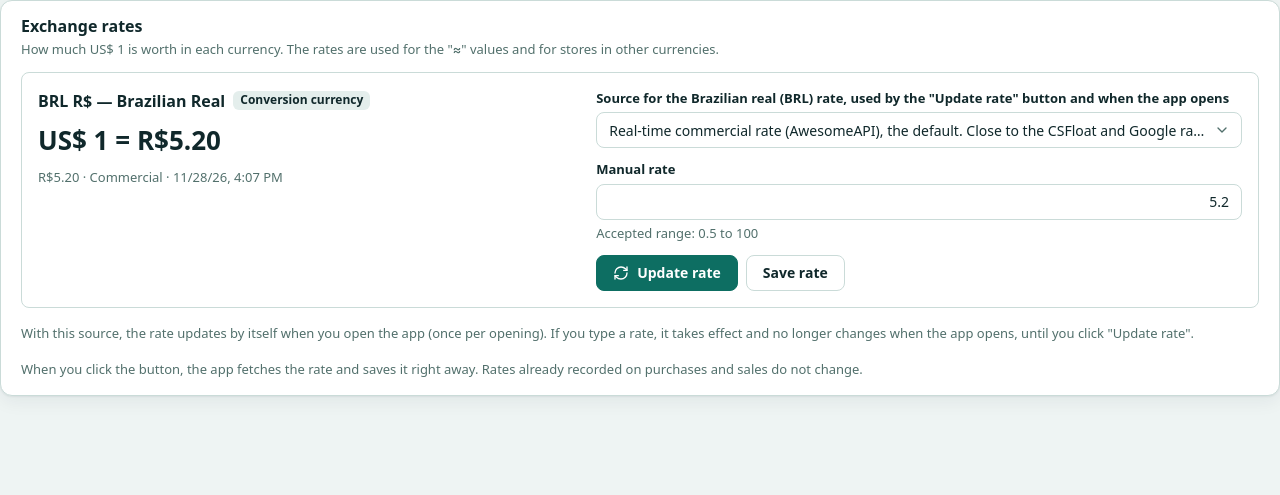
Test case: Cotações › falha ao atualizar: Banner de erro na própria linha
What coordinates should you click on to do the following:
click the button "Update rate"
I would click on:
 (667, 273)
Its box is [596,255,738,291].
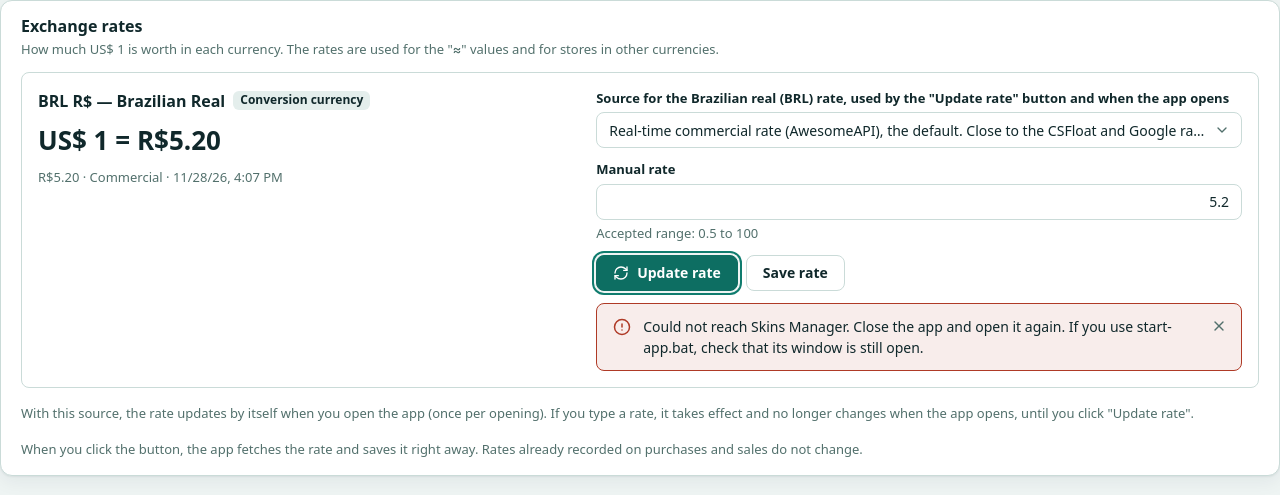
Now the message is shown, box [596,303,1242,371]
